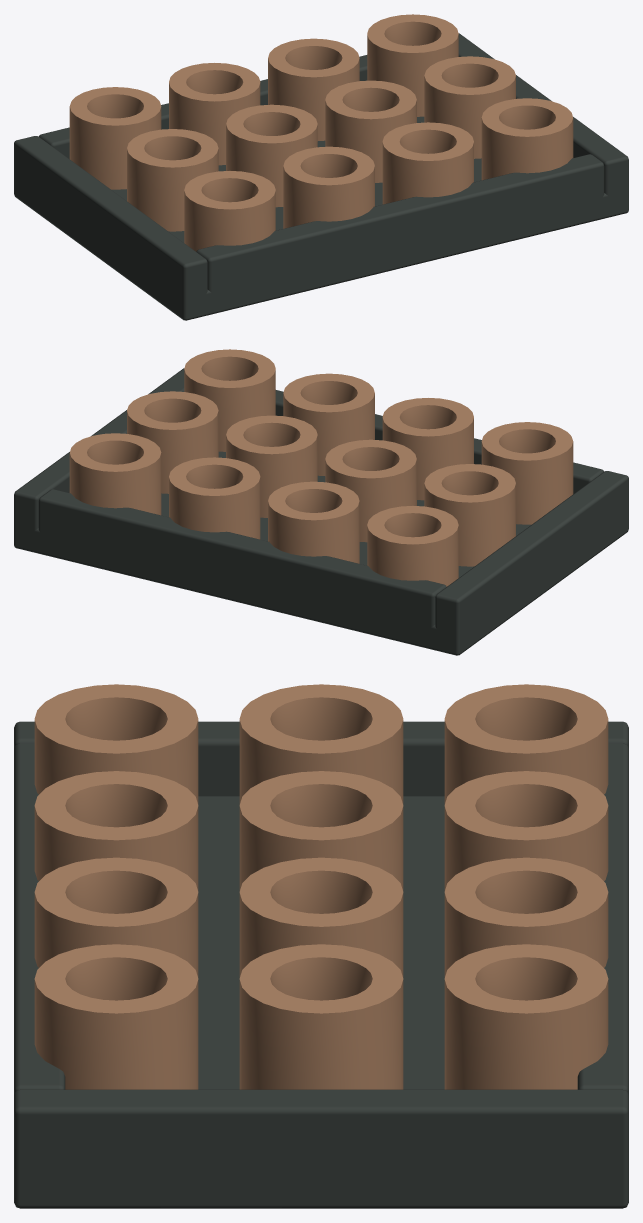
The model's file is plant-tray.glb.
The picture shows the model from 3 angles, top to bottom: view 1: azimuth 30°, elevation 25°; view 2: azimuth 150°, elevation 25°; view 3: azimuth 270°, elevation 25°; orthographic projection. The views are drawn at different scales.
Parts seen in each view (by area): view 1: propagation-tray; view 2: propagation-tray; view 3: propagation-tray.
Boxes of the visible parts, bbox=[...] form: propagation-tray: bbox=[14, 14, 628, 320]; propagation-tray: bbox=[14, 349, 628, 655]; propagation-tray: bbox=[14, 684, 628, 1208].
Bounding box in the file's own units: 0.45 × 0.09 × 0.3.
